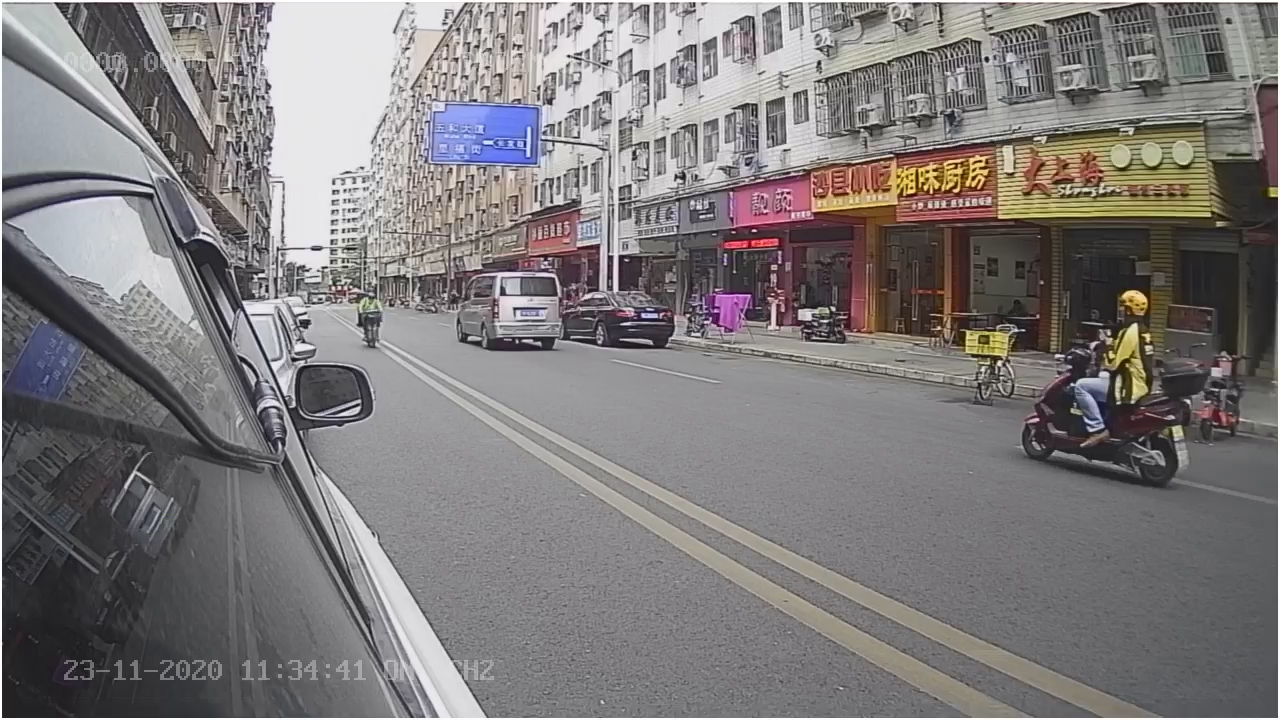person: (1077, 273, 1162, 372)
